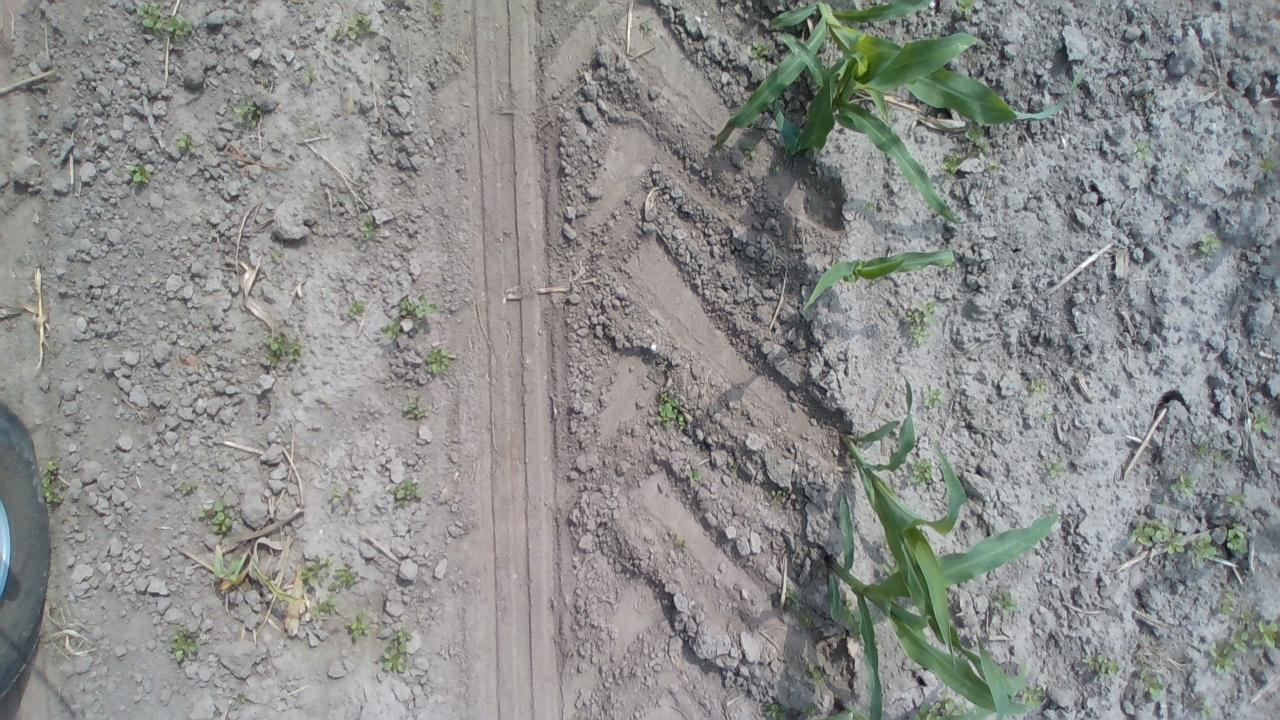Maize: (711, 0, 1090, 157), (819, 490, 1062, 717), (774, 26, 976, 227), (840, 369, 970, 678), (826, 659, 1030, 720), (802, 246, 956, 311)
Weeds: (296, 552, 359, 593), (134, 0, 194, 40), (1207, 622, 1253, 674), (1126, 514, 1185, 554), (904, 298, 938, 348), (1240, 610, 1280, 649), (193, 498, 234, 535), (382, 624, 412, 674), (652, 390, 688, 430), (262, 333, 303, 368), (167, 624, 201, 664), (328, 14, 379, 40), (39, 456, 66, 505), (342, 606, 380, 640), (911, 697, 965, 720), (398, 292, 441, 320), (388, 476, 424, 509), (1081, 652, 1120, 681), (1140, 666, 1168, 703), (230, 95, 260, 129), (424, 344, 454, 376), (1187, 232, 1223, 258), (1224, 521, 1250, 555), (1170, 470, 1201, 498), (910, 457, 935, 490), (964, 126, 988, 160), (767, 98, 791, 132), (1190, 530, 1216, 561), (400, 392, 428, 420), (308, 595, 339, 619), (1251, 406, 1274, 435), (992, 590, 1016, 616), (1196, 443, 1226, 463), (806, 662, 829, 688), (125, 163, 152, 185), (940, 151, 962, 177), (922, 386, 945, 410), (1134, 137, 1155, 163), (1217, 590, 1239, 614), (356, 214, 376, 240), (1046, 458, 1068, 480), (749, 39, 772, 60), (326, 480, 346, 504), (1019, 686, 1042, 706), (764, 701, 785, 720), (957, 0, 975, 22), (739, 140, 758, 160), (1029, 376, 1048, 395), (347, 300, 366, 319), (784, 588, 800, 610), (880, 558, 899, 576), (800, 702, 818, 720), (177, 132, 194, 151), (1225, 492, 1248, 506), (1196, 704, 1216, 720), (178, 480, 198, 496), (382, 322, 402, 336), (799, 607, 814, 625), (1258, 159, 1276, 174), (770, 488, 786, 503), (306, 120, 320, 135), (863, 199, 876, 215), (302, 66, 315, 82), (432, 0, 444, 17), (985, 160, 999, 173), (640, 19, 654, 32), (794, 127, 804, 145), (842, 598, 854, 612), (688, 468, 702, 480), (770, 162, 782, 176), (234, 694, 241, 710), (944, 263, 956, 272), (1038, 414, 1050, 422), (272, 248, 280, 260), (733, 463, 741, 472)
